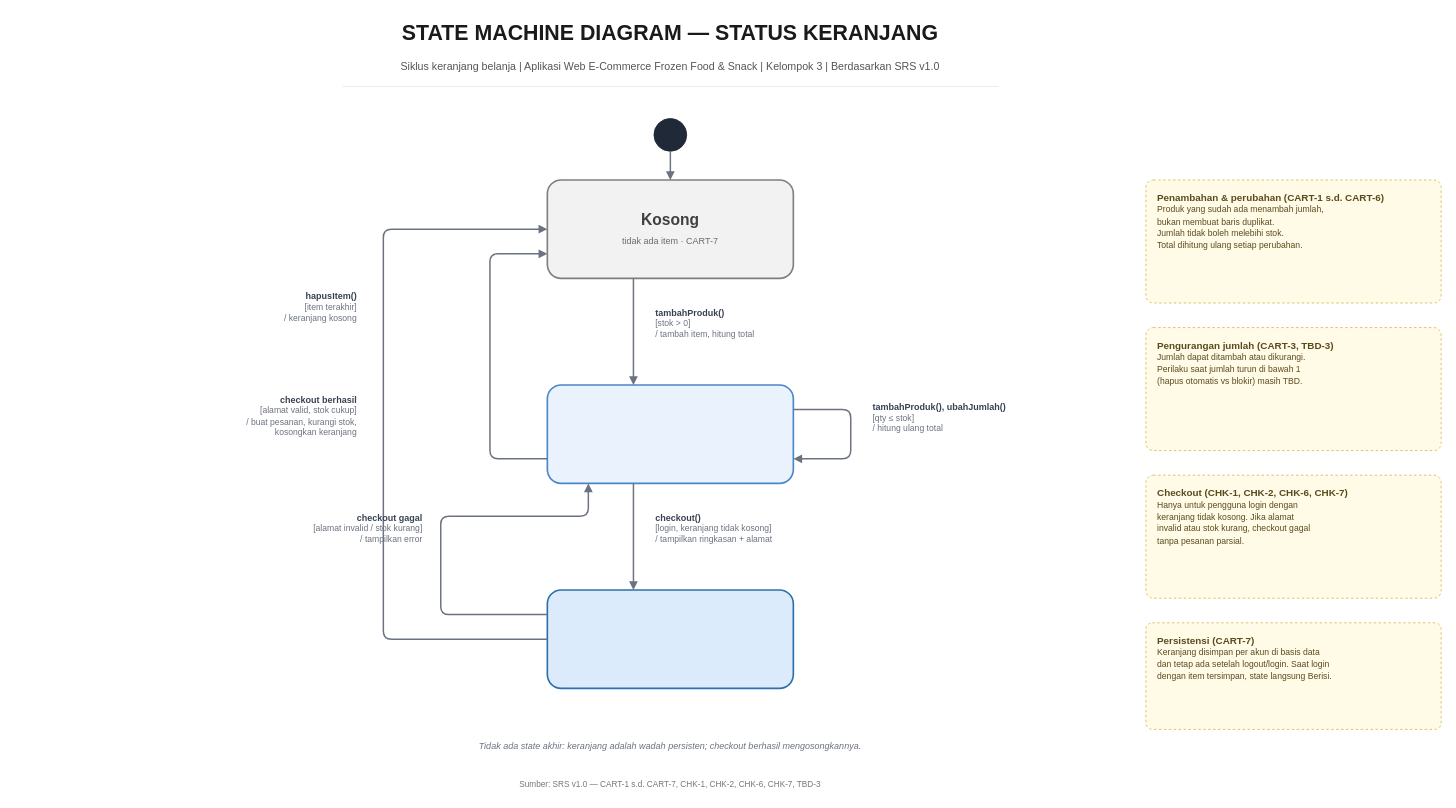
The diagram is 1456 pixels wide and 808 high, and some of its shapes have lost their labels. Here are the shapes that lost their labels. From the top down, the box of each, then its label:
(546, 384, 794, 484): Berisi ada item · total dihitung
(546, 589, 794, 689): Checkout ringkasan + alamat · CHK-2
